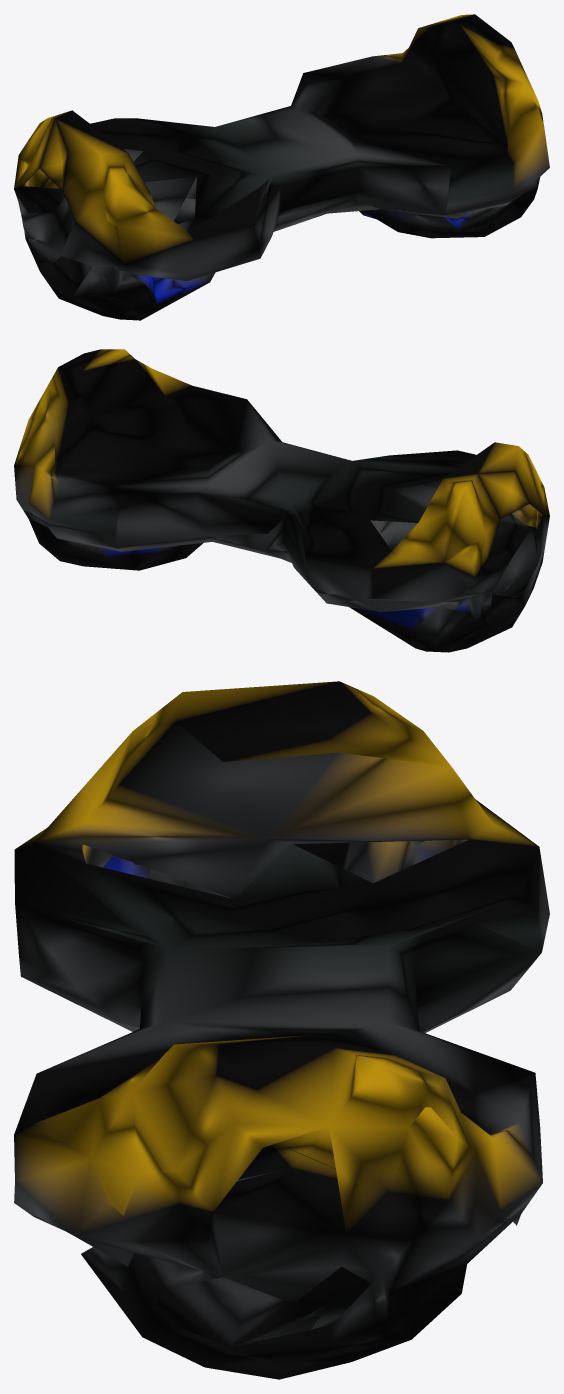
File: gen3d-hoverboard-lod1.glb
3 renders of one model, top to bottom at view 1: azimuth 30°, elevation 25°; view 2: azimuth 150°, elevation 25°; view 3: azimuth 270°, elevation 25°, orthographic. The views are drawn at different scales.
Visible parts, largest first — view 1: part_0; view 2: part_0; view 3: part_0.
Boxes of the visible parts, <box> form: part_0: <box>14,14,549,320</box>; part_0: <box>14,349,549,652</box>; part_0: <box>14,681,549,1379</box>.
Size of the model in its own units: 2.53 by 0.9851 by 1.36.
